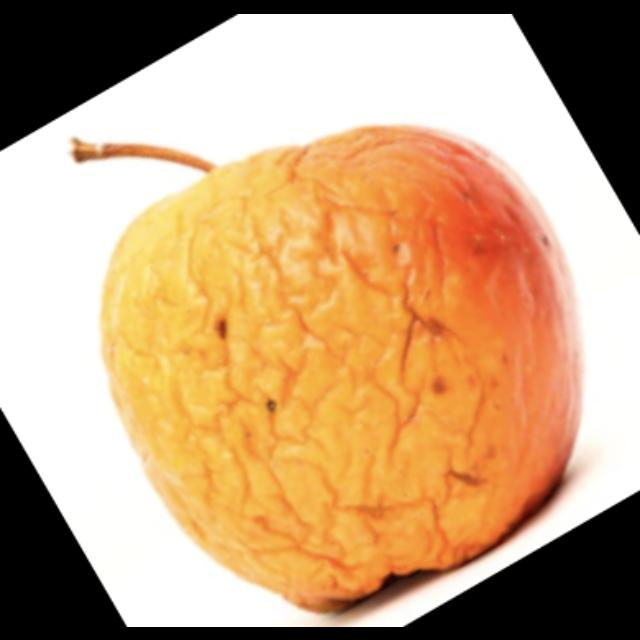Apel Tidak Segar: (34, 56, 616, 580)
